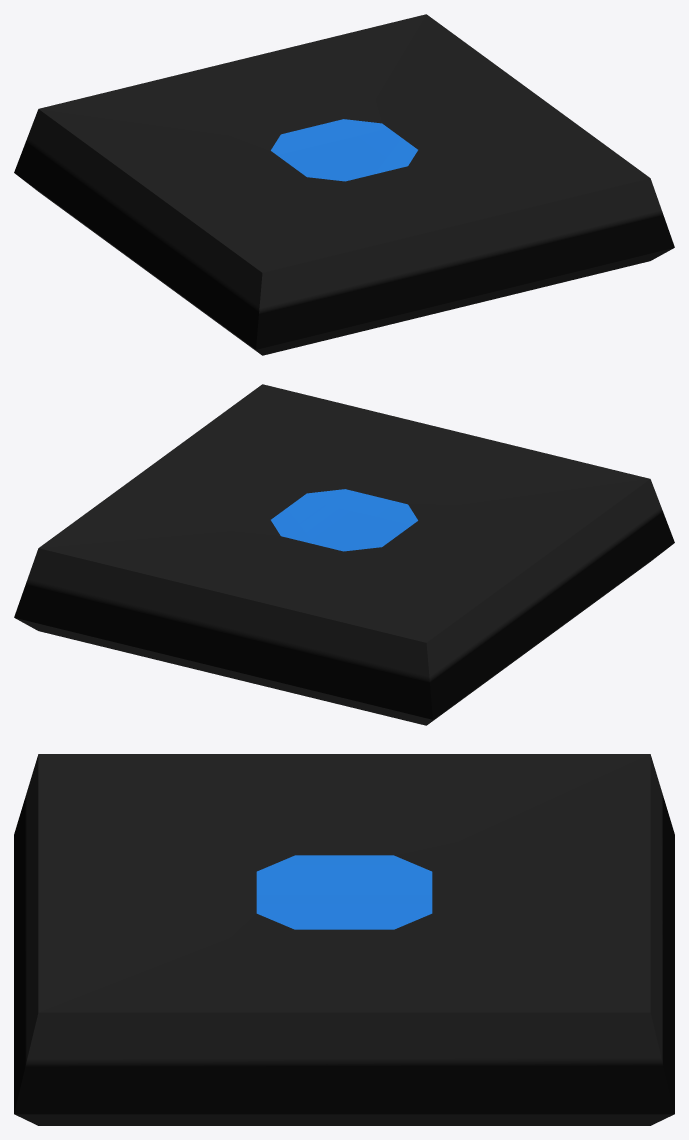
The model's file is stone.glb.
3 views of the same model, one above another, from view 1: azimuth 30°, elevation 25°; view 2: azimuth 150°, elevation 25°; view 3: azimuth 270°, elevation 25° (orthographic). The views are drawn at different scales.
Visible parts, largest first — view 1: Cube; view 2: Cube; view 3: Cube.
Boxes of the visible parts, bbox=[...] form: Cube: bbox=[14, 14, 674, 355]; Cube: bbox=[14, 384, 674, 725]; Cube: bbox=[14, 754, 674, 1125].
Bounding box in the file's own units: 0.7693 × 0.1568 × 0.7693.
2 materials, 2 textured.
